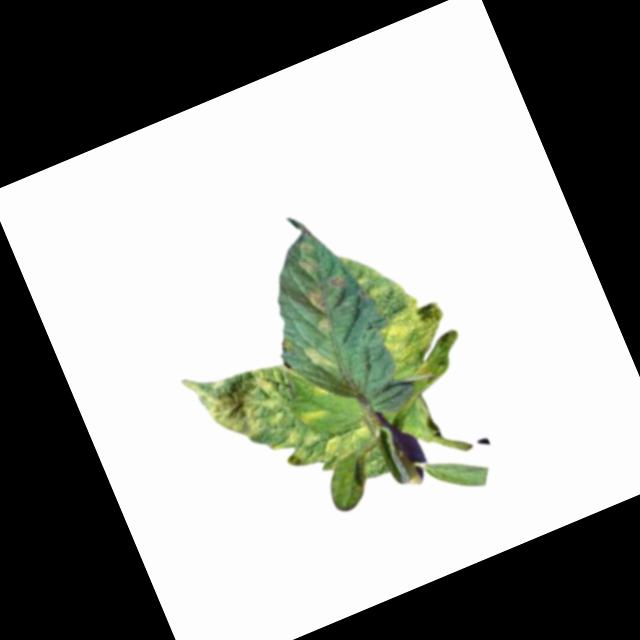Leaf_Mold: (176, 340, 313, 480), (372, 283, 470, 391), (288, 419, 378, 478), (298, 337, 335, 380), (300, 283, 331, 320), (293, 249, 324, 281), (298, 399, 329, 428), (311, 314, 334, 335)
